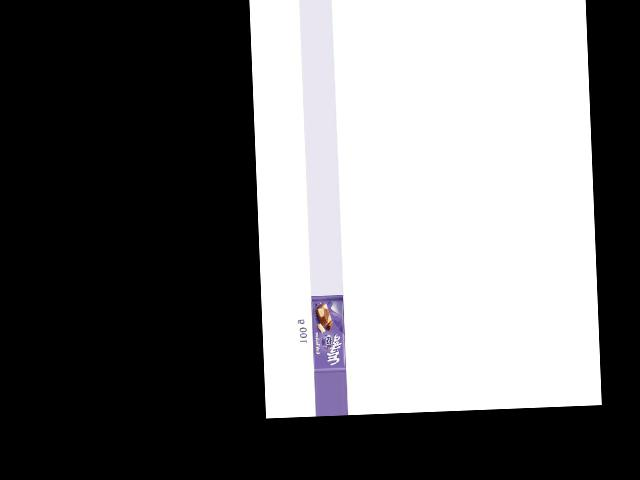chocolate: (309, 294, 346, 373)
